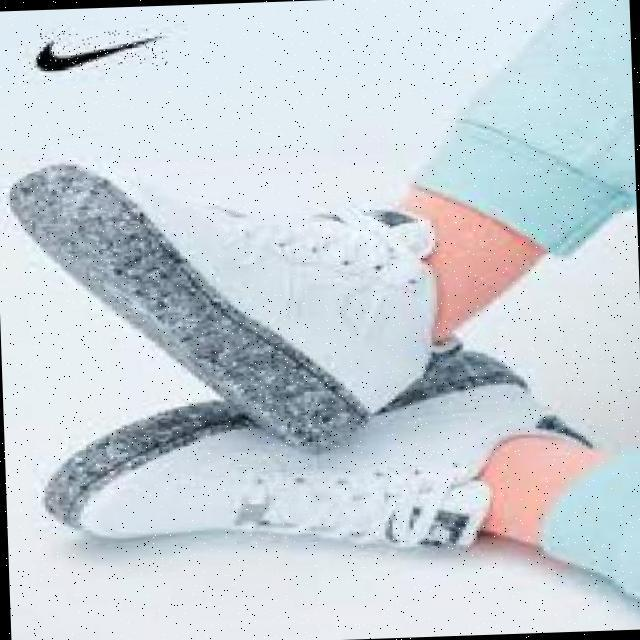Nike: (28, 28, 167, 70)
